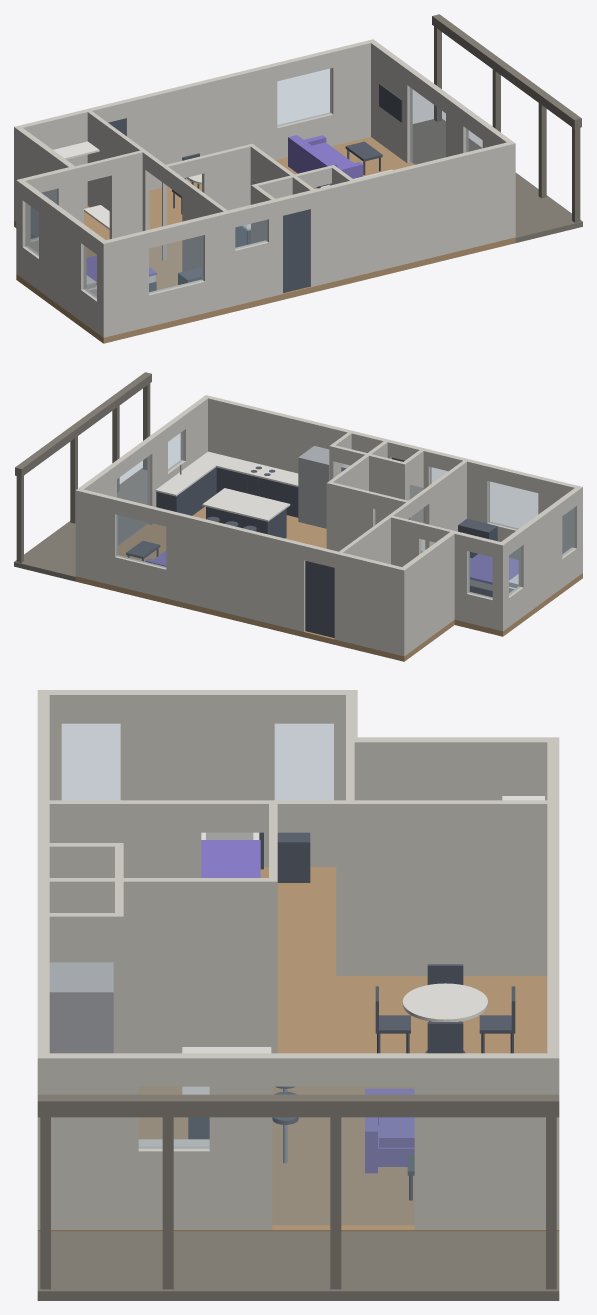
File: adu-768.glb
3 renders of one model, top to bottom at view 1: azimuth 30°, elevation 25°; view 2: azimuth 150°, elevation 25°; view 3: azimuth 270°, elevation 25°, orthographic. The views are drawn at different scales.
Parts seen in each view (by area): view 1: wall_south_4, wall_north_2, wall_south_1, slab_south, wall_west_2, porch_deck, wall_north_3, wall_east_3, wall_south_2, porch, slab_north, wall_bed_north_int_2 (+44 smaller); view 2: wall_north_2, wall_south_4, wall_north_1, wall_notch_1, wall_west_2, wall_north_3, porch_deck, slab_north, wall_bath_north_1, slab_south, fridge, porch (+47 smaller); view 3: porch_deck, wall_closet_east_1, wall_bath_east_1, slab_south, wall_east_3, wall_west_2, glass_door2_slider, wall_east_1, slab_north, porch_beam, wall_notch_1, wall_east_2 (+31 smaller).
Part boxes in pixels (left/top/right/bottom): wall_south_4: left=308, top=141, right=515, bottom=287; wall_north_2: left=124, top=63, right=277, bottom=190; wall_south_1: left=100, top=230, right=148, bottom=337; slab_south: left=16, top=237, right=515, bottom=343; wall_west_2: left=39, top=195, right=86, bottom=320; porch_deck: left=412, top=119, right=582, bottom=242; wall_north_3: left=330, top=39, right=375, bottom=145; wall_east_3: left=368, top=39, right=412, bottom=163; wall_south_2: left=202, top=209, right=235, bottom=312; porch: left=434, top=26, right=580, bottom=222; slab_north: left=14, top=137, right=415, bottom=256; wall_bed_north_int_2: left=109, top=150, right=142, bottom=239; wall_north_2: left=166, top=510, right=306, bottom=631; wall_south_4: left=203, top=395, right=392, bottom=473; wall_north_1: left=334, top=551, right=407, bottom=656; wall_notch_1: left=402, top=530, right=457, bottom=653; wall_west_2: left=518, top=501, right=562, bottom=615; wall_north_3: left=75, top=489, right=117, bottom=585; porch_deck: left=14, top=468, right=147, bottom=581; slab_north: left=75, top=539, right=454, bottom=661; wall_bath_north_1: left=327, top=481, right=375, bottom=551; slab_south: left=126, top=506, right=582, bottom=636; fridge: left=298, top=446, right=329, bottom=528; porch: left=16, top=383, right=150, bottom=562; porch_deck: left=37, top=1231, right=559, bottom=1300; wall_closet_east_1: left=354, top=800, right=547, bottom=975; wall_bath_east_1: left=49, top=878, right=277, bottom=1053; slab_south: left=37, top=867, right=357, bottom=1231; wall_east_3: left=414, top=1053, right=559, bottom=1229; wall_west_2: left=120, top=690, right=274, bottom=866; glass_door2_slider: left=272, top=1087, right=414, bottom=1225; wall_east_1: left=37, top=1053, right=138, bottom=1229; slab_north: left=357, top=976, right=559, bottom=1231; porch_beam: left=37, top=1094, right=559, bottom=1117; wall_notch_1: left=346, top=737, right=547, bottom=800; wall_east_2: left=209, top=1053, right=272, bottom=1229.
Size of the model in its own units: 13.03 by 2.82 by 6.71.
